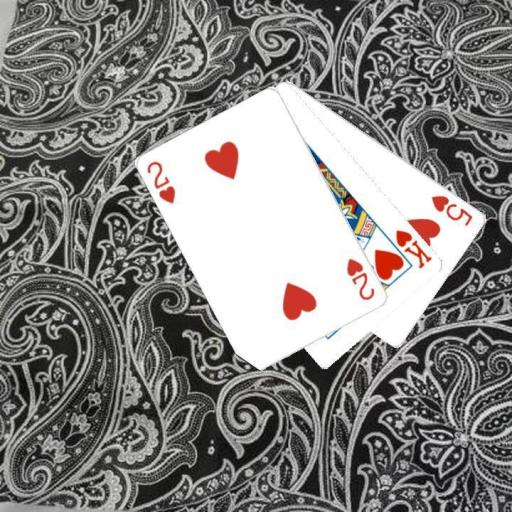card-corner: (392, 226, 434, 270), (428, 192, 475, 228), (144, 158, 178, 205), (343, 256, 377, 302)
